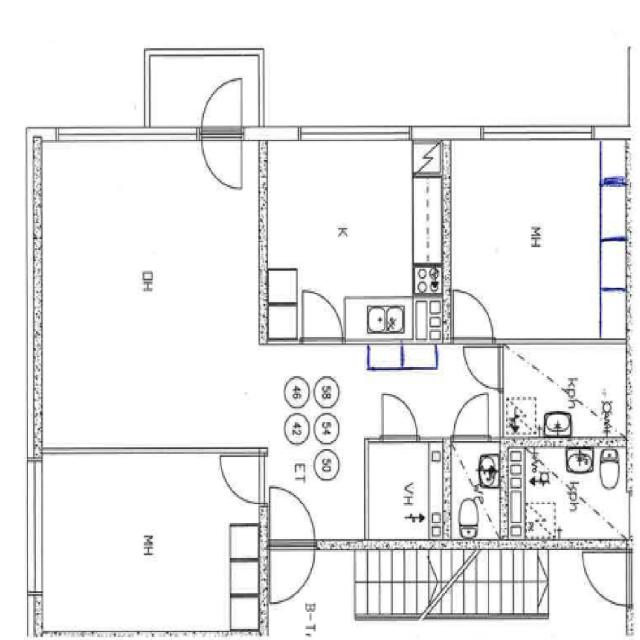door: (270, 484, 316, 551), (270, 540, 316, 606), (202, 79, 242, 141), (202, 128, 242, 190), (219, 456, 268, 504), (302, 290, 342, 344), (453, 291, 492, 344), (454, 396, 488, 442), (466, 347, 504, 388), (383, 398, 417, 442)
